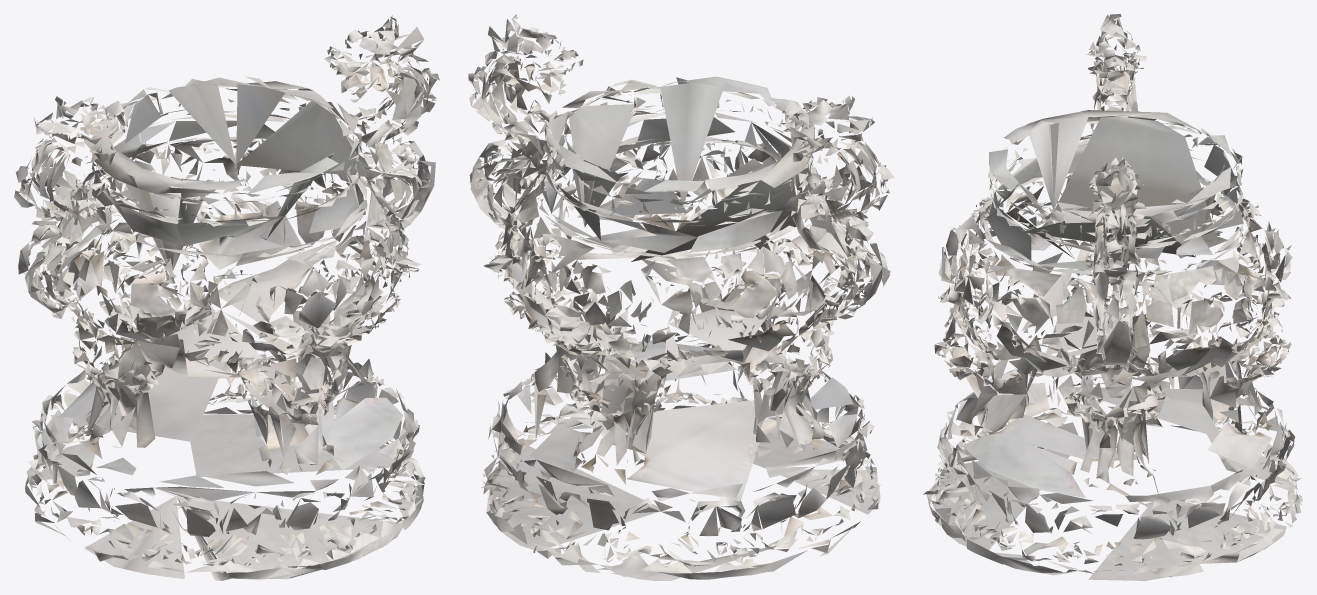
3 views of the same model, side by side, from view 1: azimuth 30°, elevation 25°; view 2: azimuth 150°, elevation 25°; view 3: azimuth 270°, elevation 25° (orthographic). The views are drawn at different scales.
Parts seen in each view (by area): view 1: model; view 2: model; view 3: model.
Boxes of the visible parts, x1=… form: model: x1=14, y1=15, x2=439, y2=580; model: x1=468, y1=14, x2=894, y2=580; model: x1=923, y1=14, x2=1302, y2=580.
Size of the model in its own units: 1.59 by 1.6 by 1.32.
Materials: 1 (1 with a texture image).
